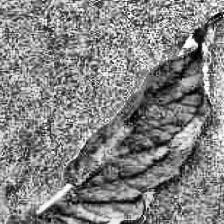leaf mold: (45, 11, 221, 224)
